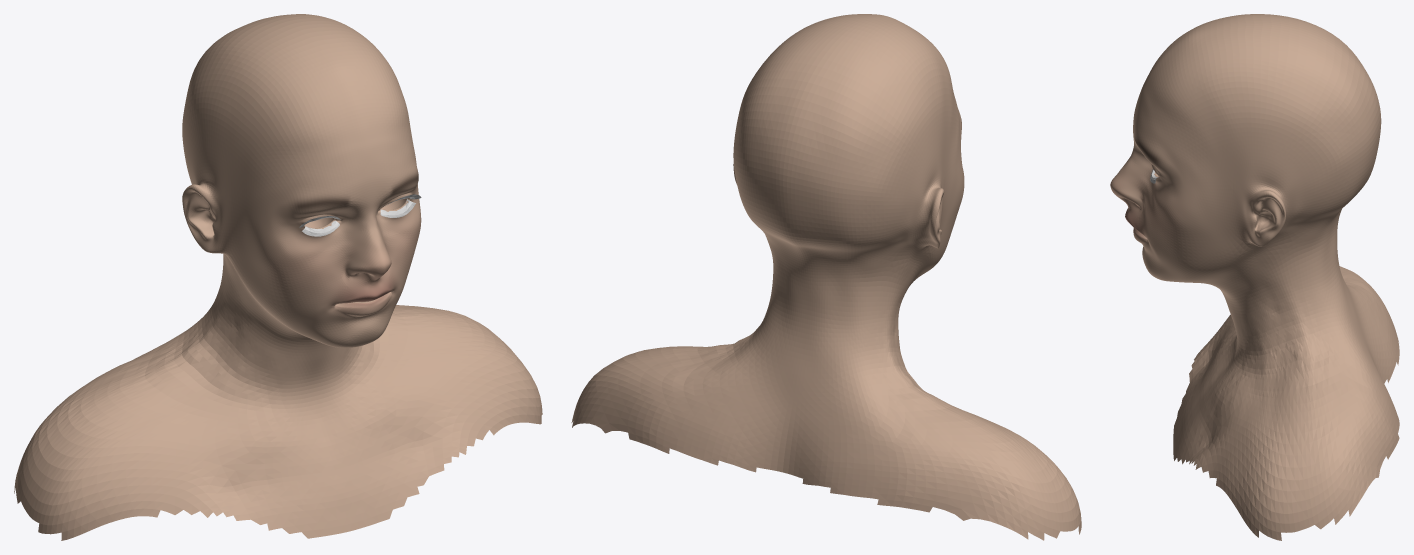
Rendered from hd_f_light_full.glb.
3 views of the same model, side by side, from view 1: azimuth 30°, elevation 25°; view 2: azimuth 150°, elevation 25°; view 3: azimuth 270°, elevation 25° (orthographic). The views are drawn at different scales.
Parts seen in each view (by area): view 1: skin, lashes; view 2: skin; view 3: skin.
Part boxes in pixels (x1,y1,x2,y2): skin: (14,14,542,540); lashes: (299,194,421,236); skin: (571,14,1081,540); skin: (1110,14,1399,540).
Size of the model in its own units: 0.4185 by 0.3726 by 0.2317.
